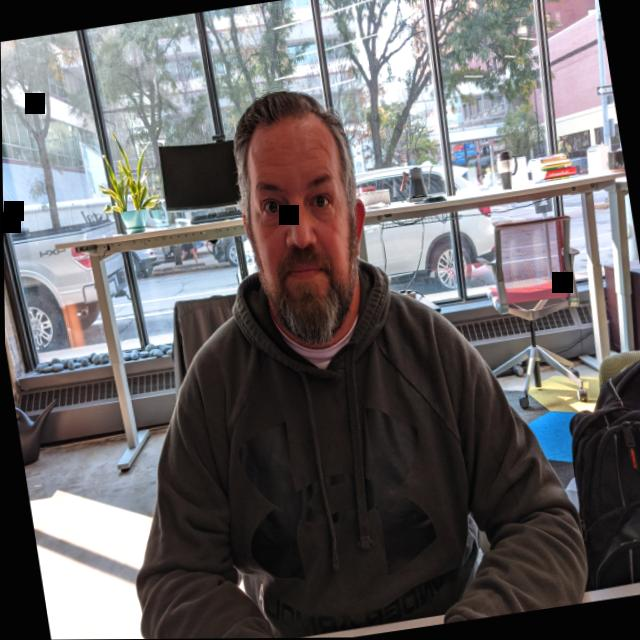NO-Mask: (235, 128, 377, 358)
